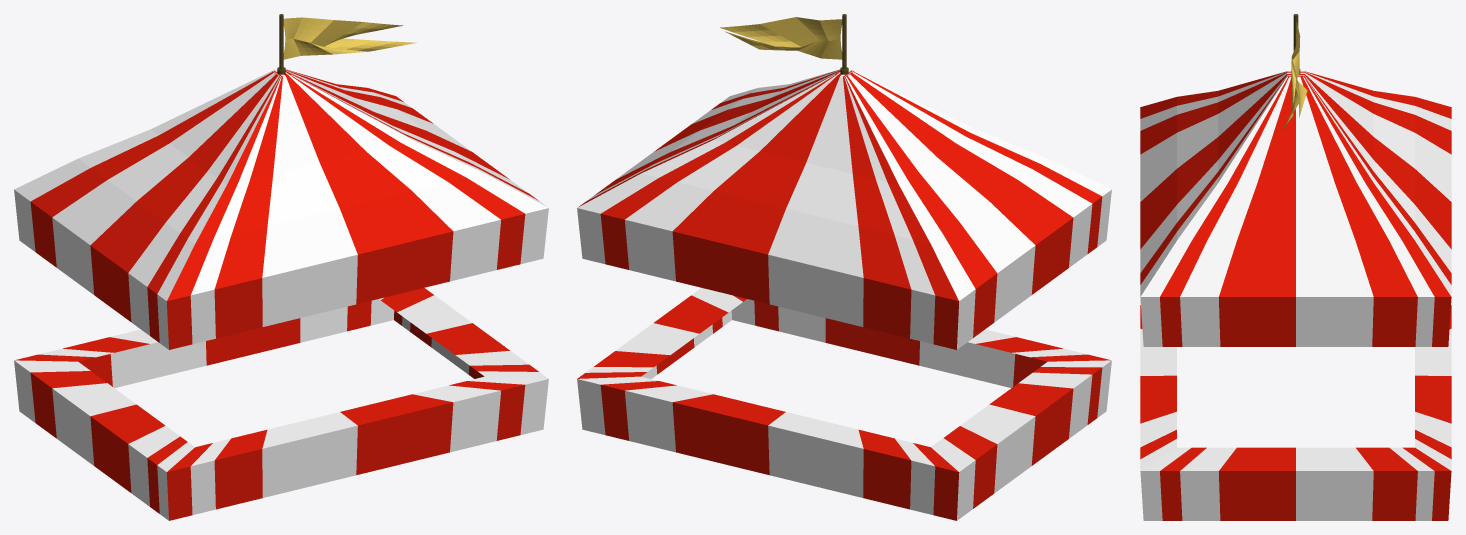
File: tienda2.glb
The picture shows the model from 3 angles, left to right: view 1: azimuth 30°, elevation 25°; view 2: azimuth 150°, elevation 25°; view 3: azimuth 270°, elevation 25°; orthographic projection.
Parts seen in each view (by area): view 1: Cube, Plane; view 2: Cube, Plane; view 3: Cube, Plane.
Part boxes in pixels (x1,y1,x2,y2): Cube: [14, 69, 548, 520]; Plane: [283, 17, 416, 59]; Cube: [577, 69, 1111, 520]; Plane: [720, 17, 842, 59]; Cube: [1140, 71, 1451, 520]; Plane: [1281, 21, 1307, 131].
Bounding box in the file's own units: 14.08 × 14.28 × 9.75.
